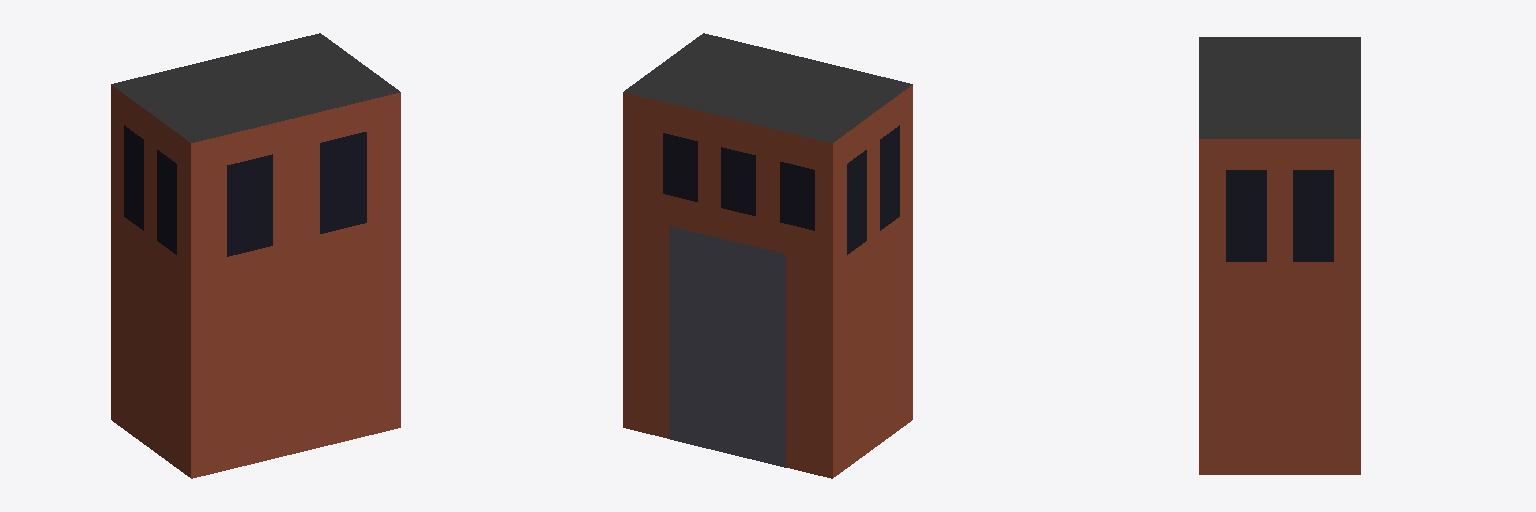
The model's file is warehouse.obj.
3 renders of one model, left to right at view 1: azimuth 30°, elevation 25°; view 2: azimuth 150°, elevation 25°; view 3: azimuth 270°, elevation 25°, orthographic.
Visible parts, largest first — view 1: Warehouse; view 2: Warehouse; view 3: Warehouse.
Part boxes in pixels (left/top/right/bottom): Warehouse: left=111, top=33, right=400, bottom=478; Warehouse: left=623, top=33, right=912, bottom=478; Warehouse: left=1199, top=37, right=1360, bottom=474.
Size of the model in its own units: 3.62 by 5.5 by 2.42.